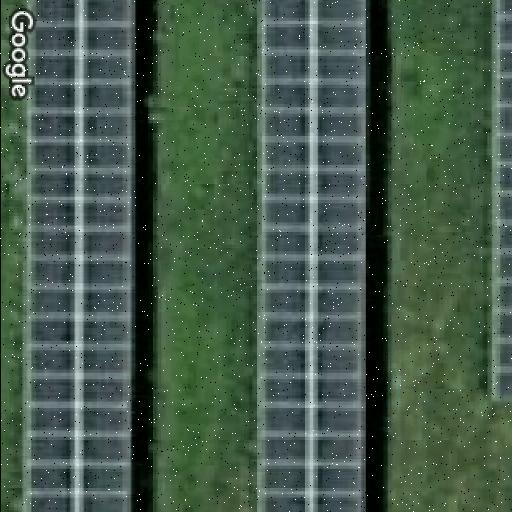solar-panel: (252, 0, 366, 512), (24, 1, 135, 512), (485, 0, 512, 398)
